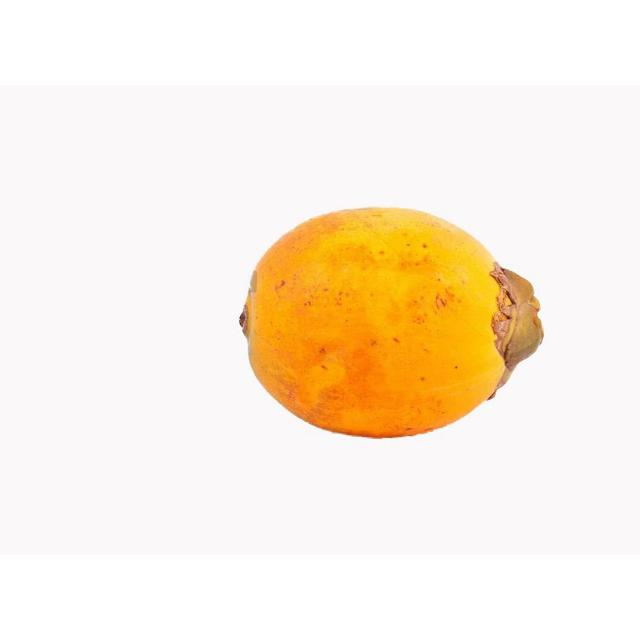good: (238, 207, 544, 441)
